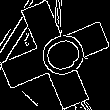O_SW: (23, 25, 87, 85)
